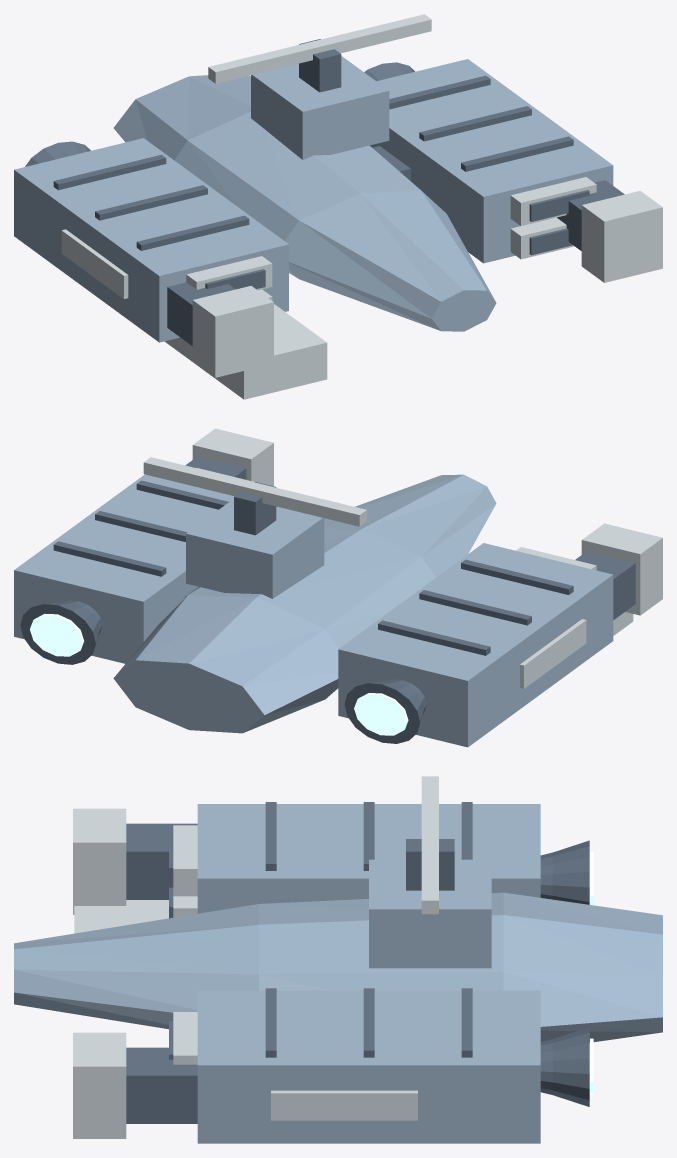
3 views of the same model, one above another, from view 1: azimuth 30°, elevation 25°; view 2: azimuth 150°, elevation 25°; view 3: azimuth 270°, elevation 25° (orthographic). The views are drawn at different scales.
Size of the model in its own units: 9.46 by 3.73 by 9.75.
